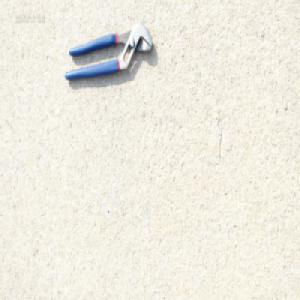Pliers: (63, 21, 153, 82)
